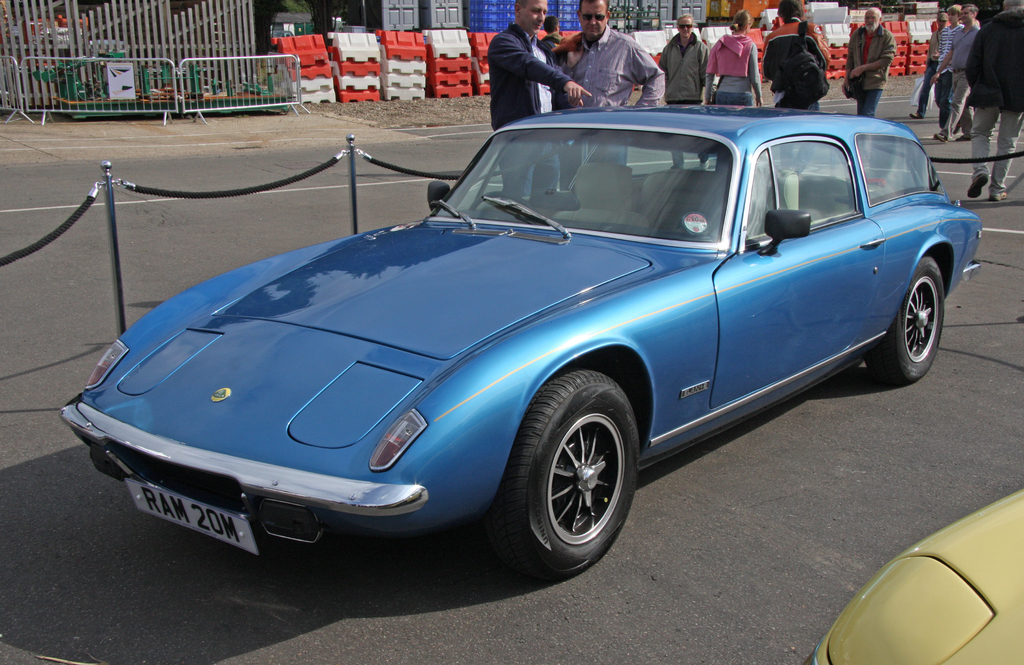Car: (44, 96, 989, 599)
